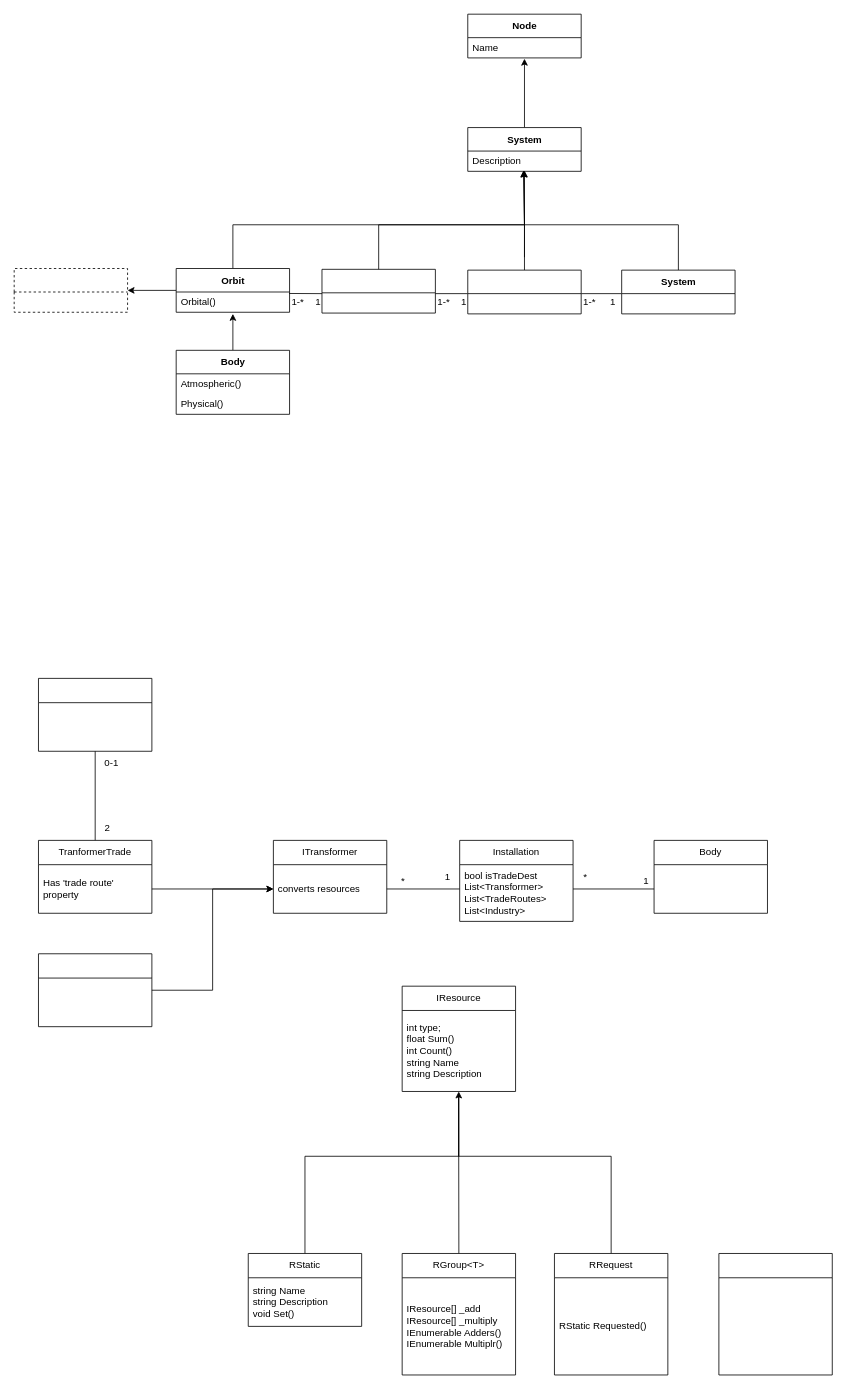
Image size: 846x1389. Some labels were removed from this diagram. The shapes that lost their labels are listed below. From the top down, each one's centre as x and y in pixels, then its label:
At (x=70, y=290): "IInstallable".
At (x=378, y=291): "Barycenter".
At (x=524, y=291): "Subsystem".
At (x=95, y=714): "TradeRoute".
At (x=95, y=990): "Industry".
At (x=775, y=1314): "RStorage".
